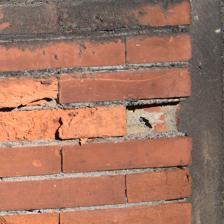Crack: (2, 0, 73, 57), (13, 44, 43, 65)
